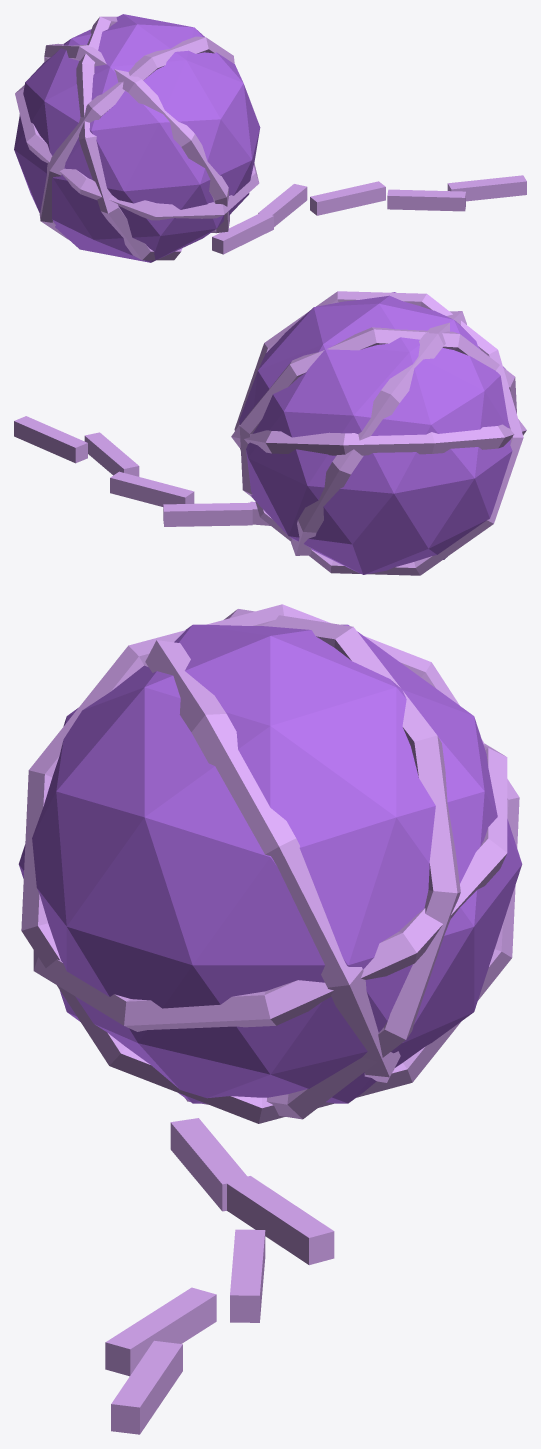
File: yarn_ball.glb
3 renders of one model, top to bottom at view 1: azimuth 30°, elevation 25°; view 2: azimuth 150°, elevation 25°; view 3: azimuth 270°, elevation 25°, orthographic. The views are drawn at different scales.
Parts seen in each view (by area): view 1: yarn_ball; view 2: yarn_ball; view 3: yarn_ball.
Part boxes in pixels (x1,y1,x2,y2): yarn_ball: (14,14,526,262); yarn_ball: (14,291,526,575); yarn_ball: (18,604,522,1434).
Bounding box in the file's own units: 1.79 × 0.84 × 0.84.
